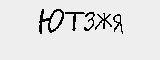Ж: (94, 10, 112, 32)
З: (79, 7, 96, 34)
Т: (63, 8, 83, 34)
Ю: (35, 5, 63, 38)
Я: (108, 11, 125, 35)
